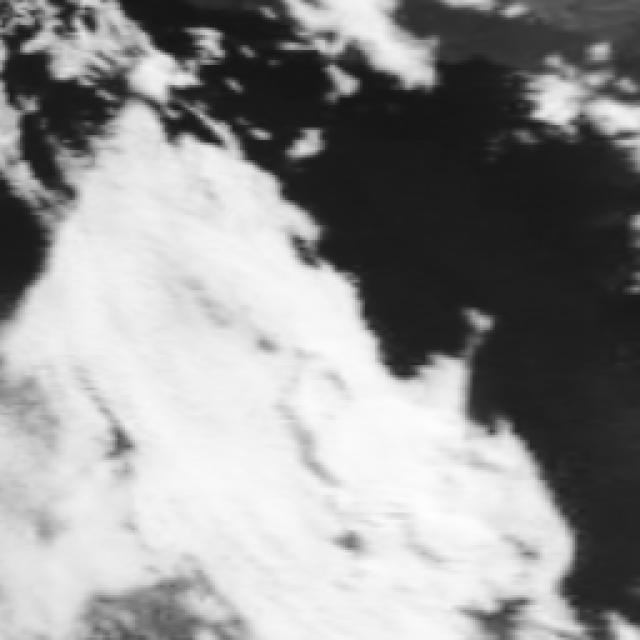CB: (176, 372, 378, 564), (260, 477, 457, 640), (91, 176, 256, 364), (3, 360, 153, 560)
